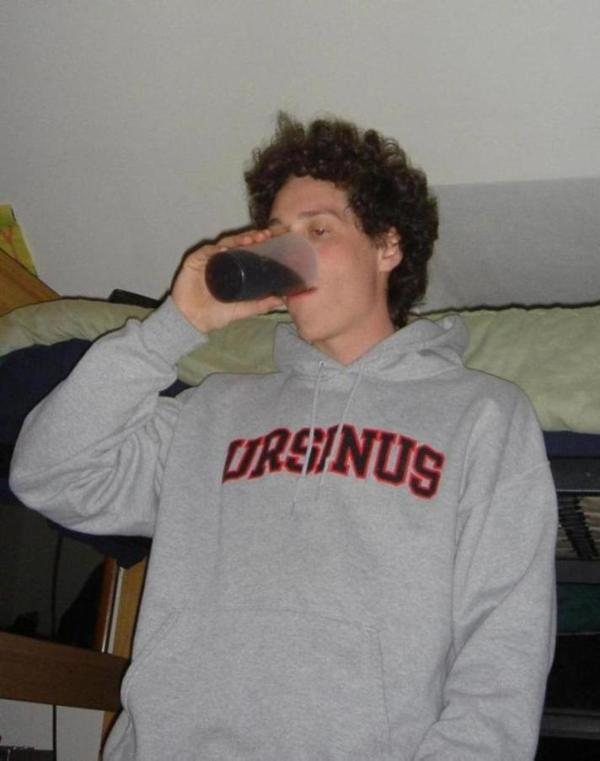person: (8, 115, 560, 759)
